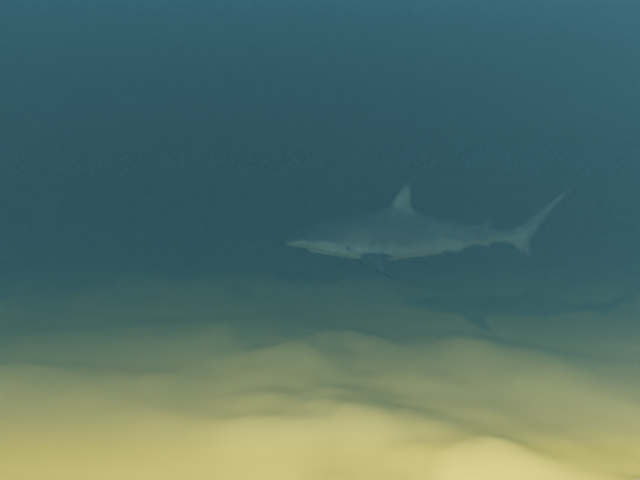Carribean Shark.001: (284, 180, 576, 278)
